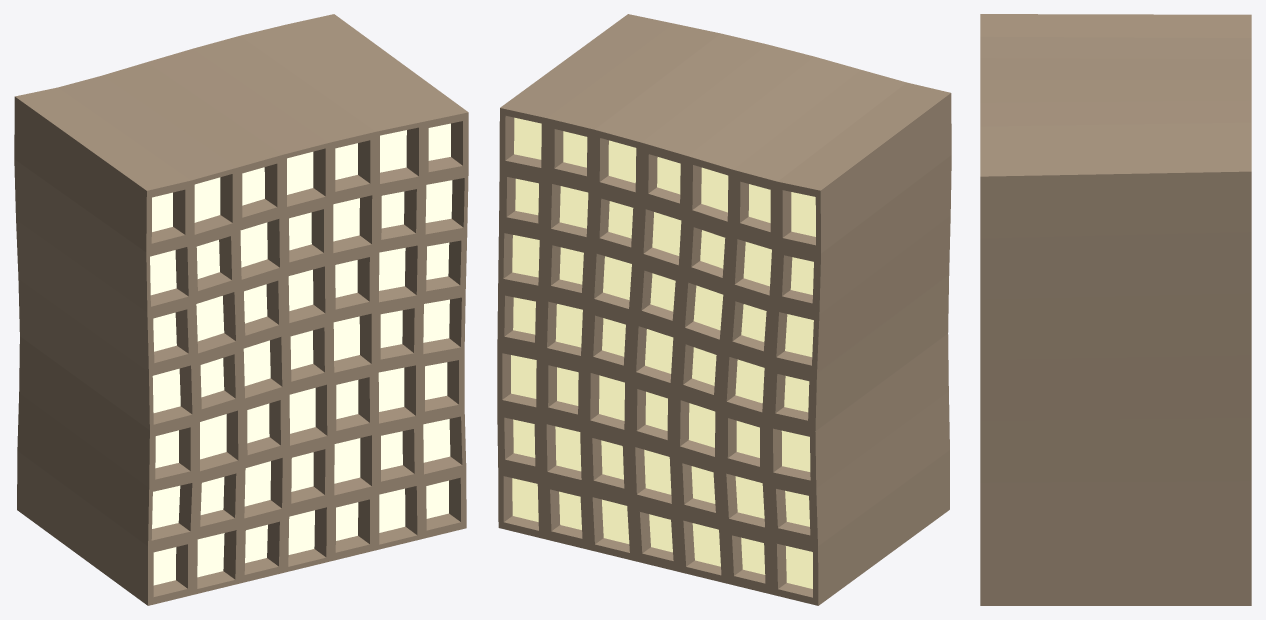
The model's file is building.gltf.
3 views of the same model, side by side, from view 1: azimuth 30°, elevation 25°; view 2: azimuth 150°, elevation 25°; view 3: azimuth 270°, elevation 25° (orthographic). The views are drawn at different scales.
Visible parts, largest first — view 1: Cube; view 2: Cube; view 3: Cube.
Boxes of the visible parts, x1,y1,x2,y2 form: Cube: [14, 14, 468, 605]; Cube: [497, 14, 951, 605]; Cube: [980, 14, 1251, 605].
Bounding box in the file's own units: 8.12 × 10.08 × 5.7.
